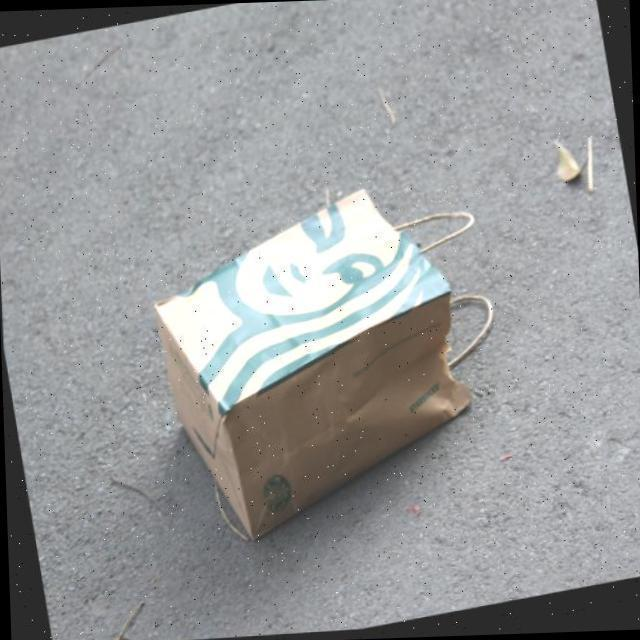Paper_Bag: (137, 166, 524, 557)
